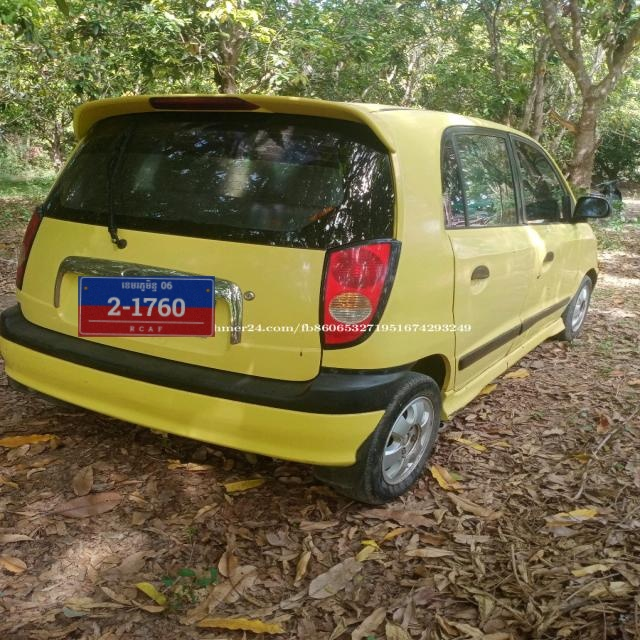Plate Number: (79, 276, 215, 338)
